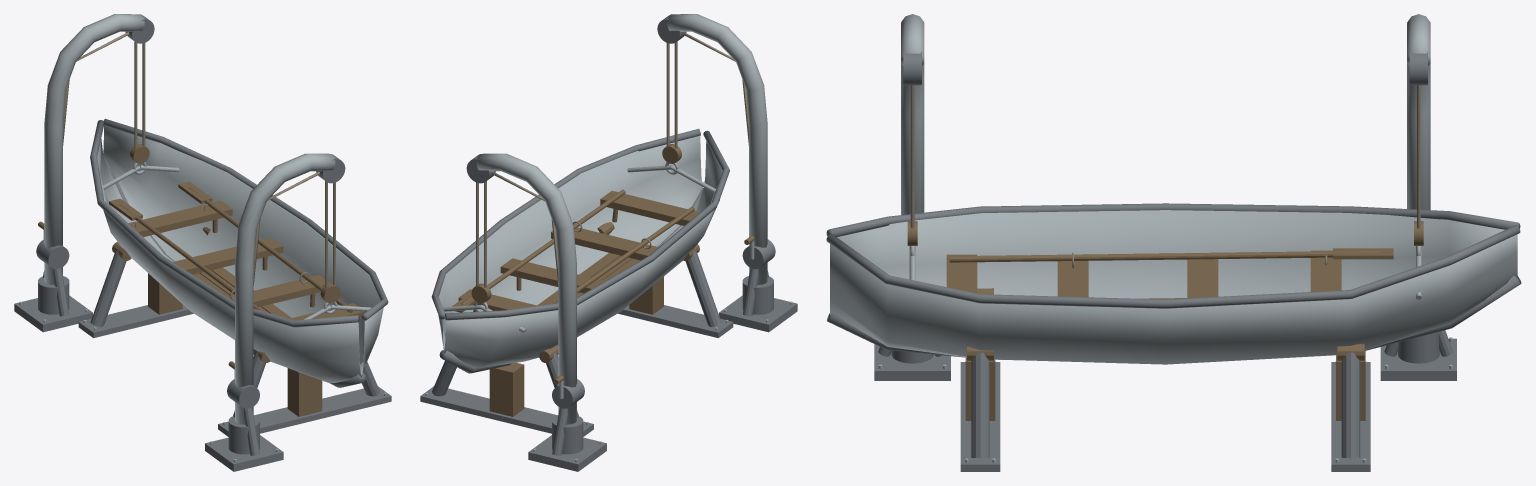
3 renders of one model, left to right at view 1: azimuth 30°, elevation 25°; view 2: azimuth 150°, elevation 25°; view 3: azimuth 270°, elevation 25°, orthographic. The views are drawn at different scales.
Visible parts, largest first — view 1: component.root.mesh; view 2: component.root.mesh; view 3: component.root.mesh.
Part boxes in pixels (x1,y1,x2,y2): component.root.mesh: [14, 14, 391, 471]; component.root.mesh: [420, 14, 797, 471]; component.root.mesh: [826, 14, 1521, 471].
Bounding box in the file's own units: 2.37 × 3.39 × 5.63.
